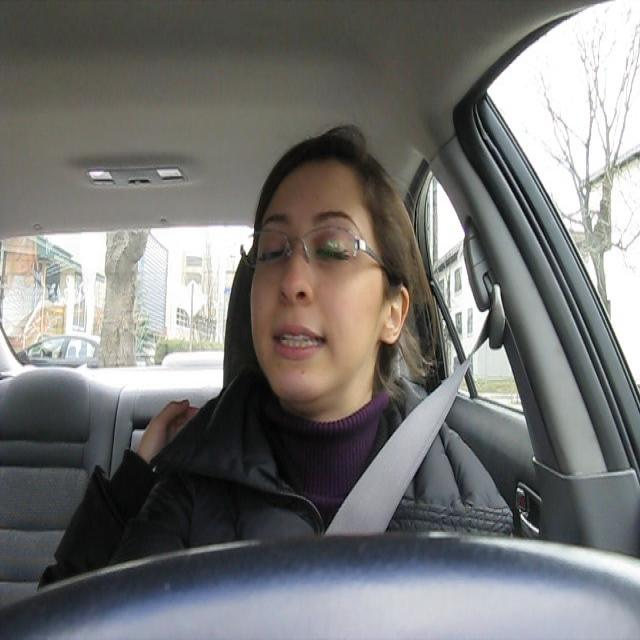Eyeclosed: (314, 236, 351, 271), (261, 241, 283, 269)
